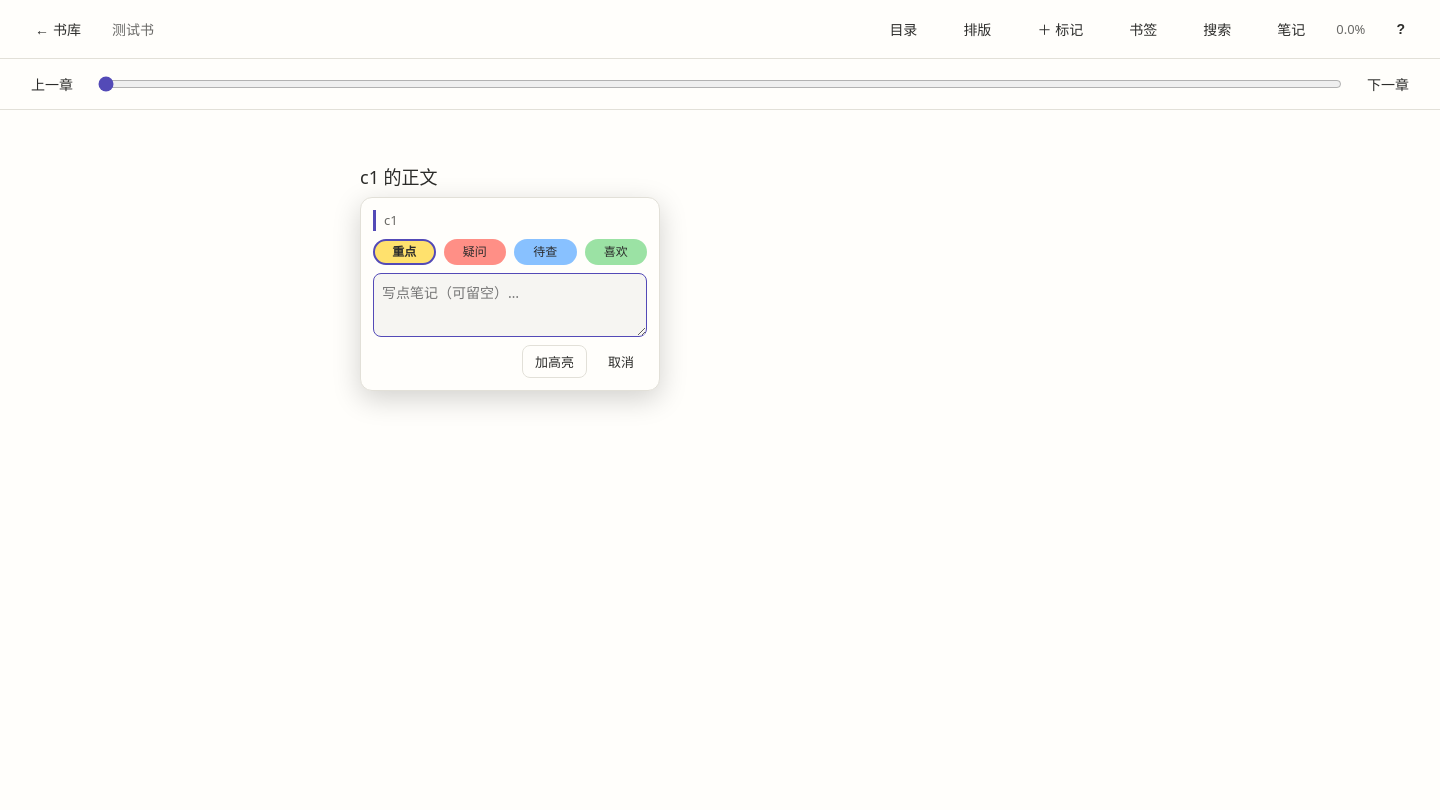
Scenario: 阅读器 › 点笔记条目会关掉管理面板并跳到正文
Expected: the text "c1 的正文" is shown, [360, 165, 438, 189]
Click the button "加高亮".
click(554, 361)  # box [522, 345, 587, 378]
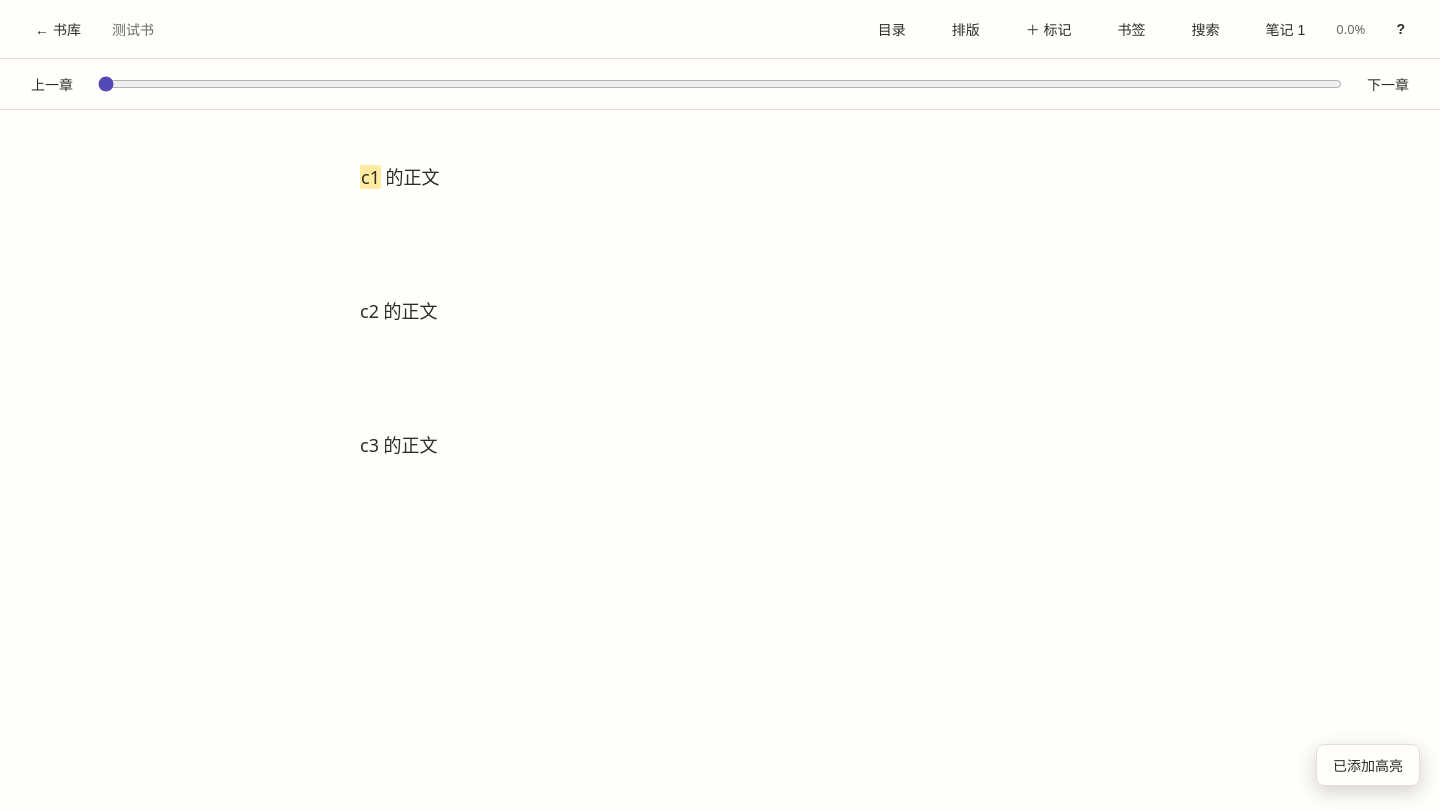
Click the button "笔记 1".
click(1285, 29)  # box [1251, 10, 1320, 48]
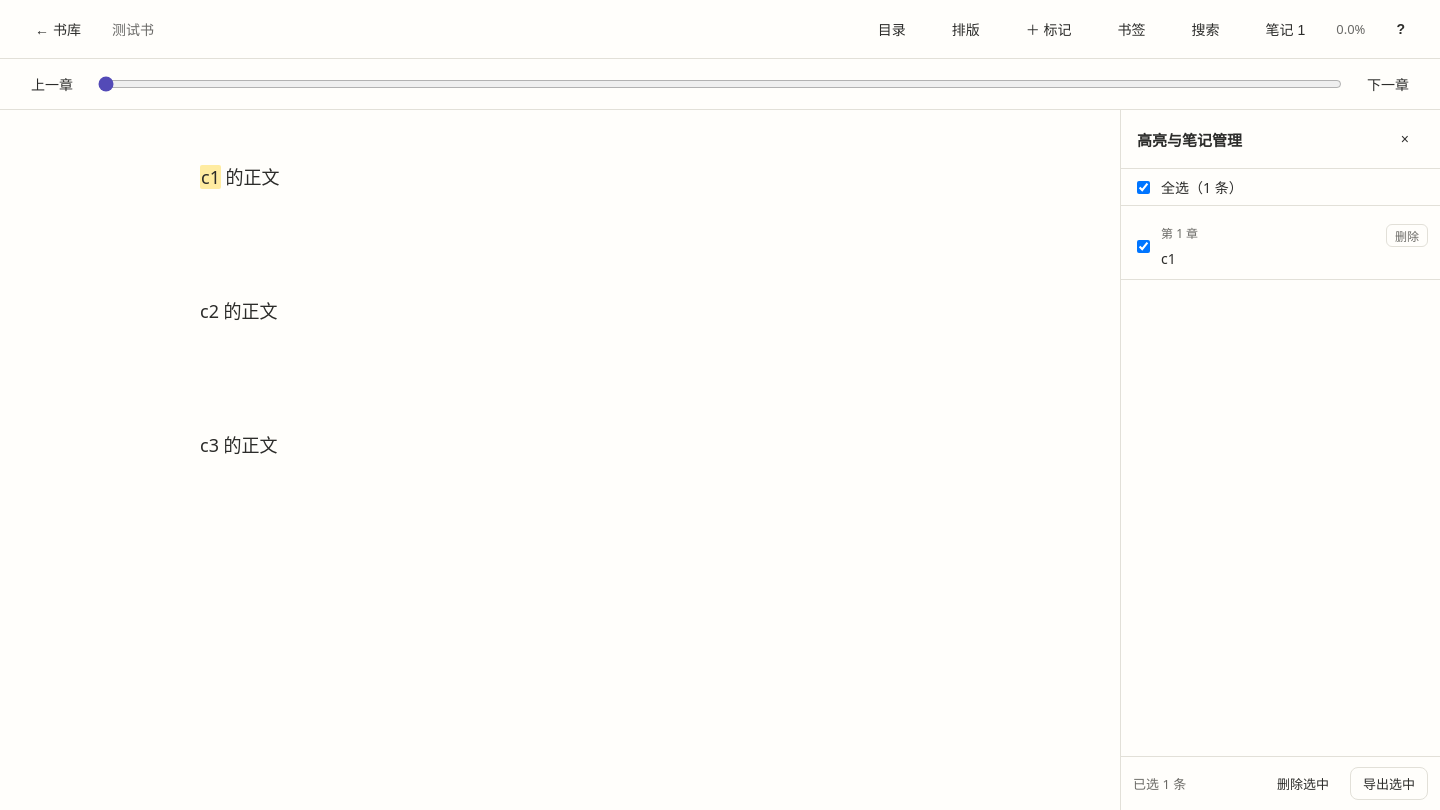
Result: the text "高亮与笔记管理" is shown at [1137, 128, 1242, 150]
Click the button with class "export-item__body".
click(1270, 246)  # box [1161, 224, 1378, 269]
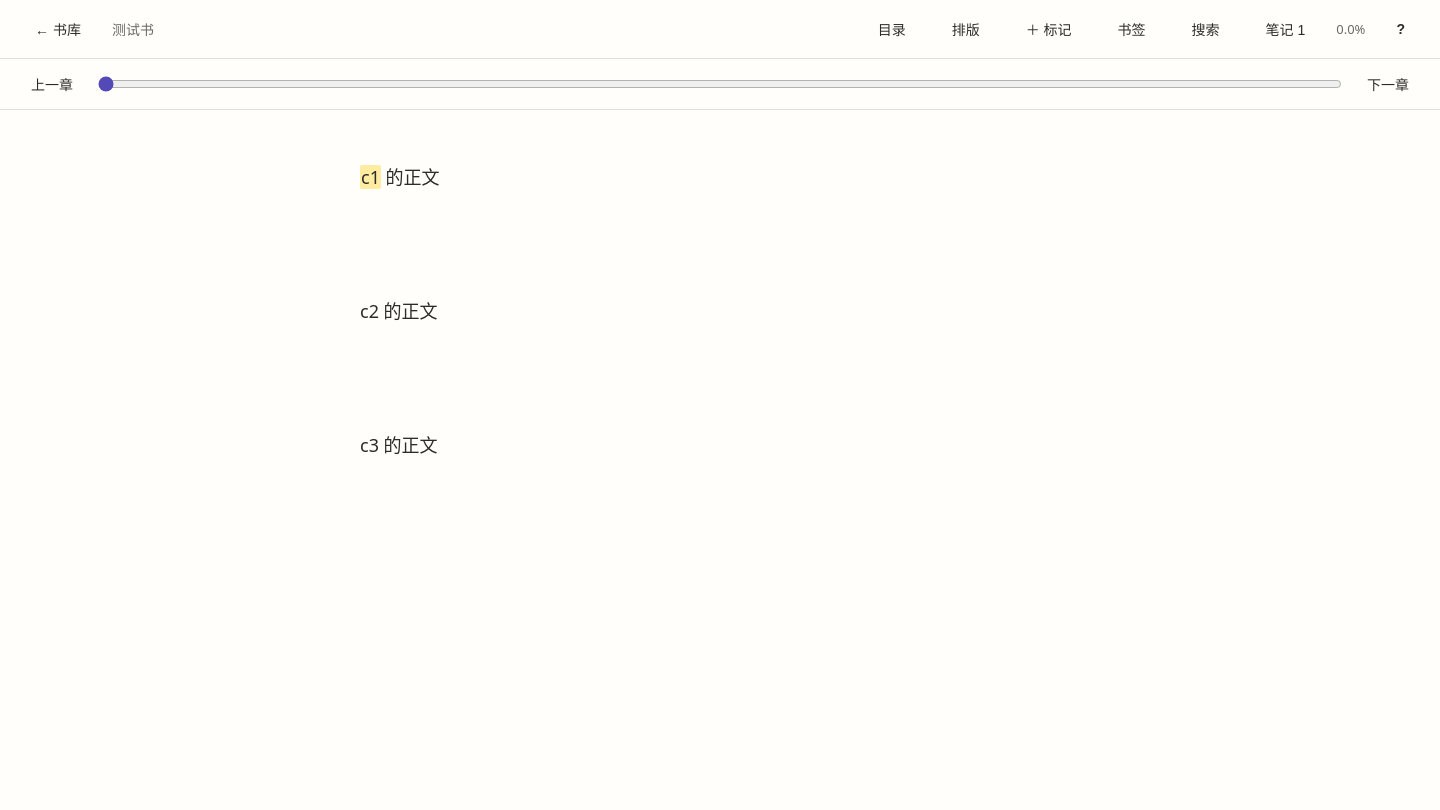
Expected: the text "c1" is shown, [360, 165, 381, 189]
Result: the text "高亮与笔记管理" is gone
